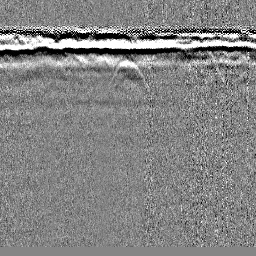cavity: (109, 58, 148, 90)
